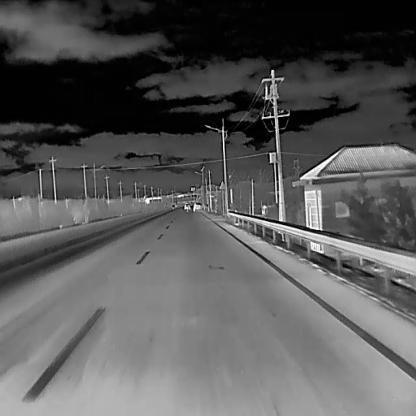car: (192, 201, 203, 213), (183, 201, 191, 212)
